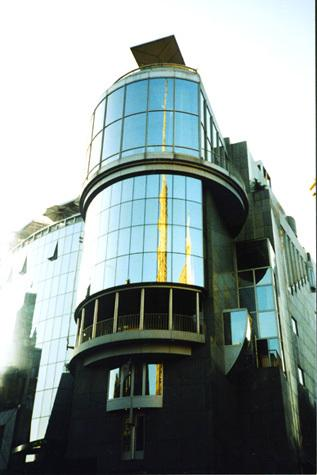building: (0, 35, 317, 475)
